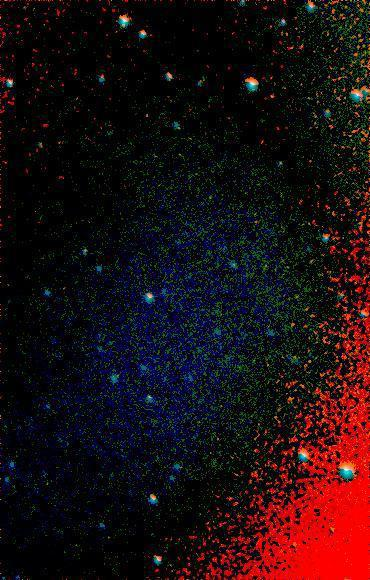star: (255, 80, 285, 110)
